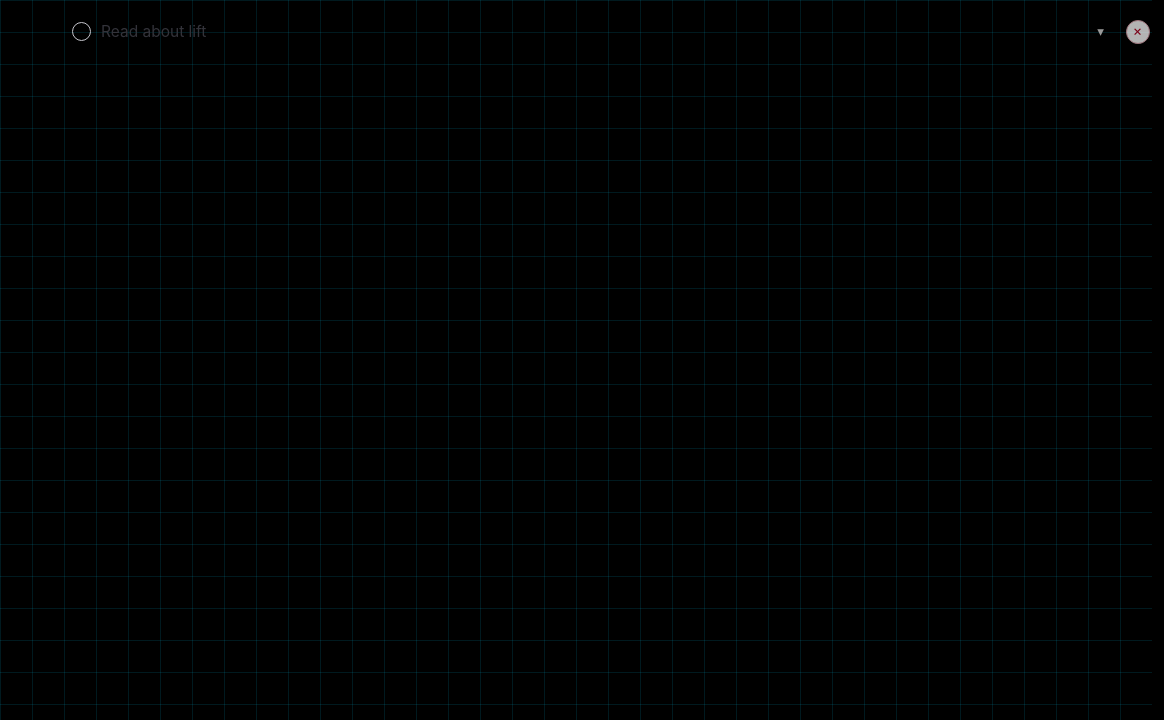
Test: TodoItem note › shows a down arrow for a todo with a note and opens it on click
Click the button named "note for “Read about lift”". click: (1101, 31)
box: [1093, 25, 1108, 38]
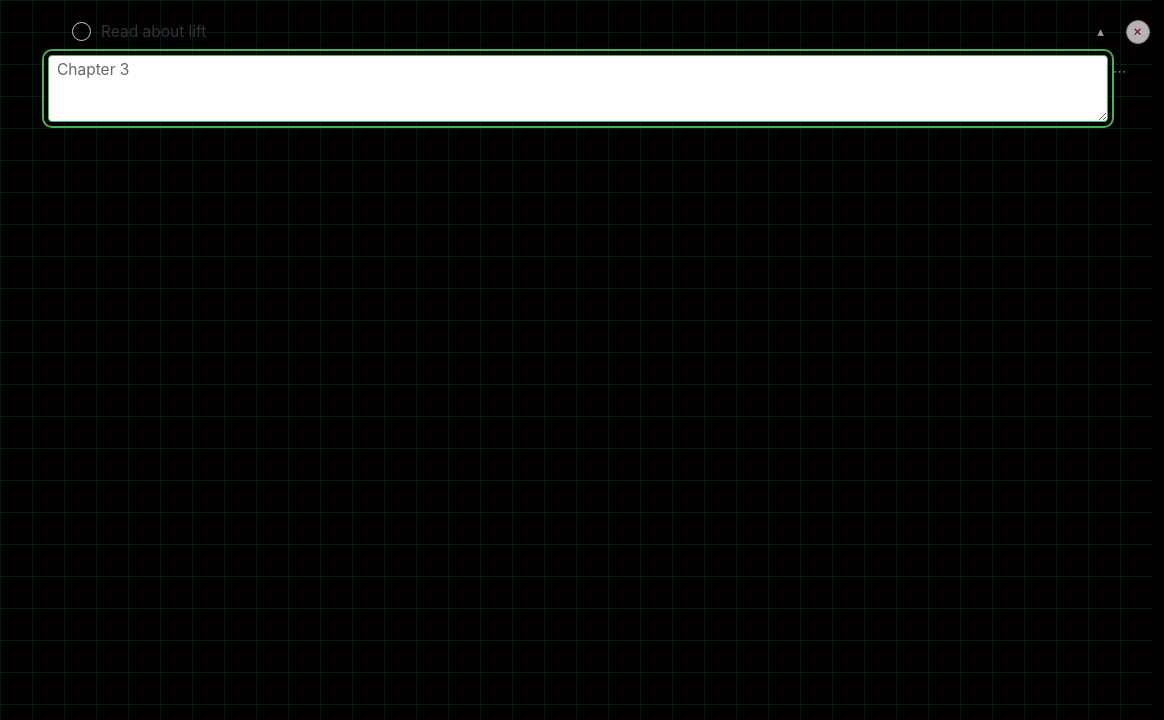
expect the text box named "note for" is shown: met, box [48, 55, 1108, 122]
expect the button named "note for “Read about lift”" reads "▴": met, box [1093, 25, 1108, 38]
